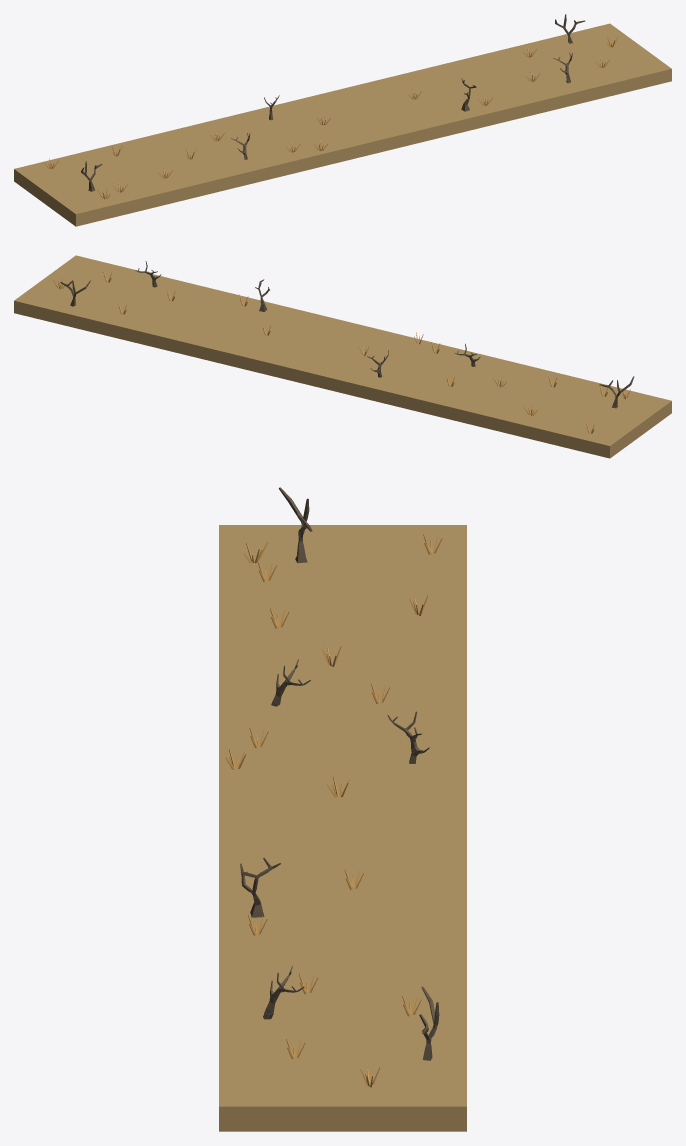
The model's file is Fora-Desolação-2.glb.
The picture shows the model from 3 angles, top to bottom: view 1: azimuth 30°, elevation 25°; view 2: azimuth 150°, elevation 25°; view 3: azimuth 270°, elevation 25°; orthographic projection. The views are drawn at different scales.
Visible parts, largest first — view 1: CHAOFORA.002; view 2: CHAOFORA.002; view 3: CHAOFORA.002.
Boxes of the visible parts, x1,y1,x2,y2 form: CHAOFORA.002: [14, 23, 671, 226]; CHAOFORA.002: [14, 255, 671, 458]; CHAOFORA.002: [219, 525, 466, 1131].
Size of the model in its own units: 50 by 3.41 by 9.
